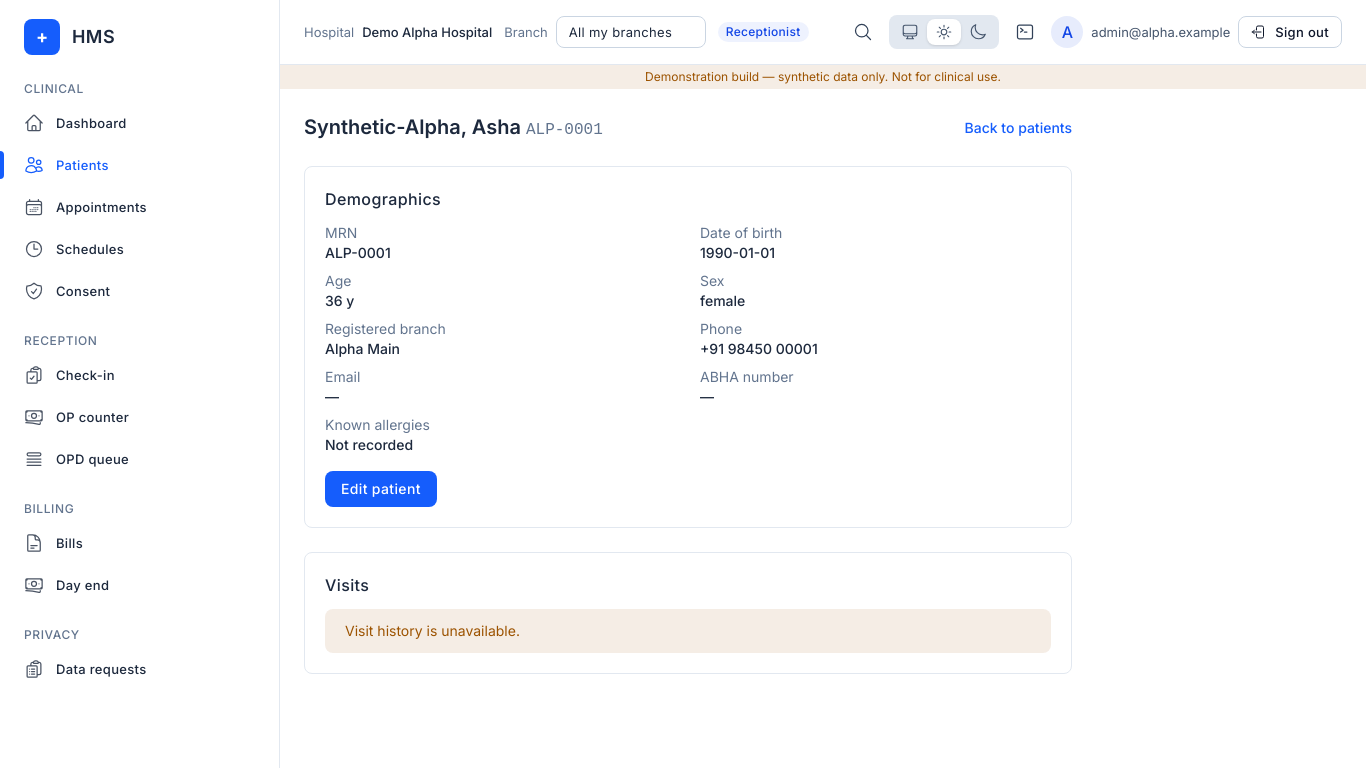
Test: PatientDetailPage › shows demographics; a receptionist can edit but not delete (#273)
Expected: the text "+91 98450 00001" is shown, x1=700 y1=340 x2=818 y2=357
Expected: the text "Alpha Main" is shown, x1=325 y1=340 x2=400 y2=357
Step 1. Click the button "Edit patient" → click(381, 489), box x1=325 y1=471 x2=437 y2=507
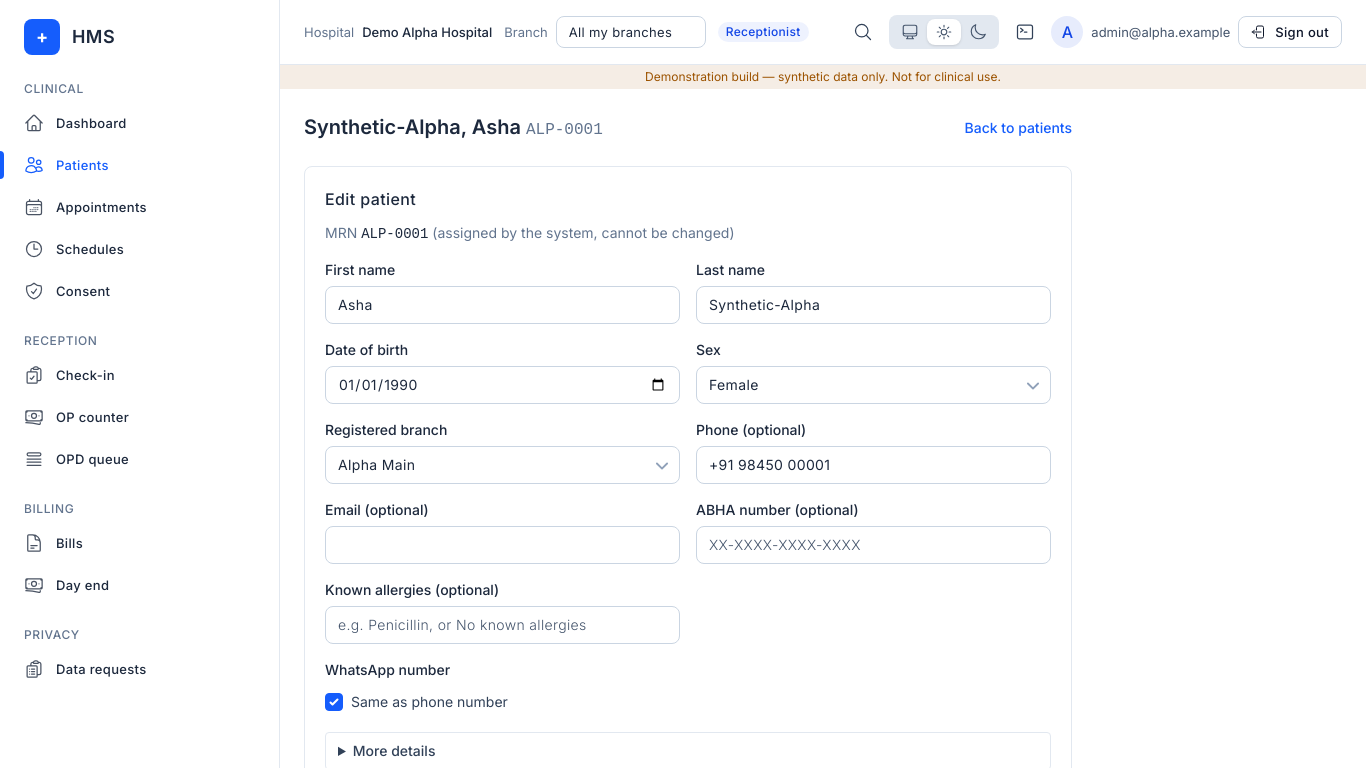
Now the element with test id "edit-mrn" shows "ALP-0001", box x1=361 y1=226 x2=428 y2=242
Step 2. Clear the field labelled "Phone (optional)" → (874, 465), box x1=696 y1=446 x2=1051 y2=484
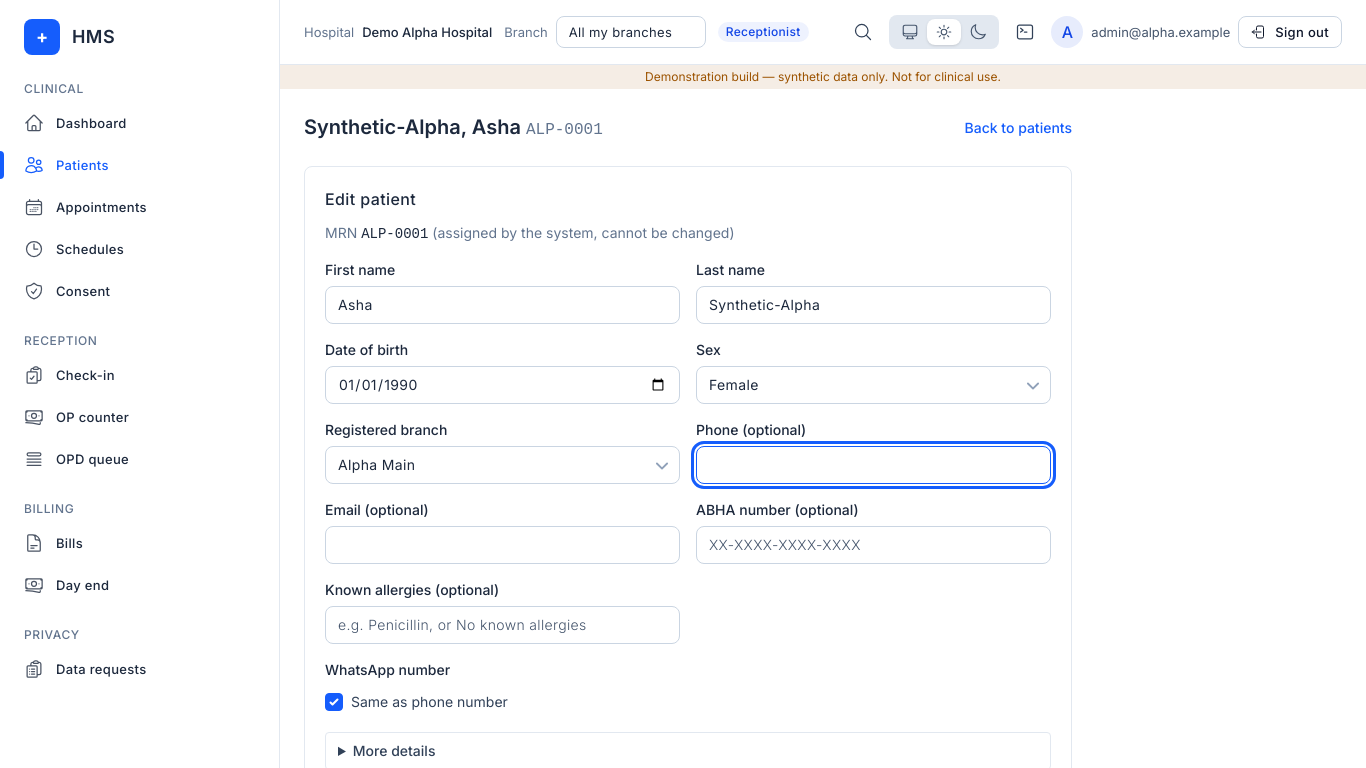
Step 3. Select "Alpha East" in the dropdown labelled "Registered branch" → (502, 465), box x1=325 y1=446 x2=680 y2=484
(page scrolled)
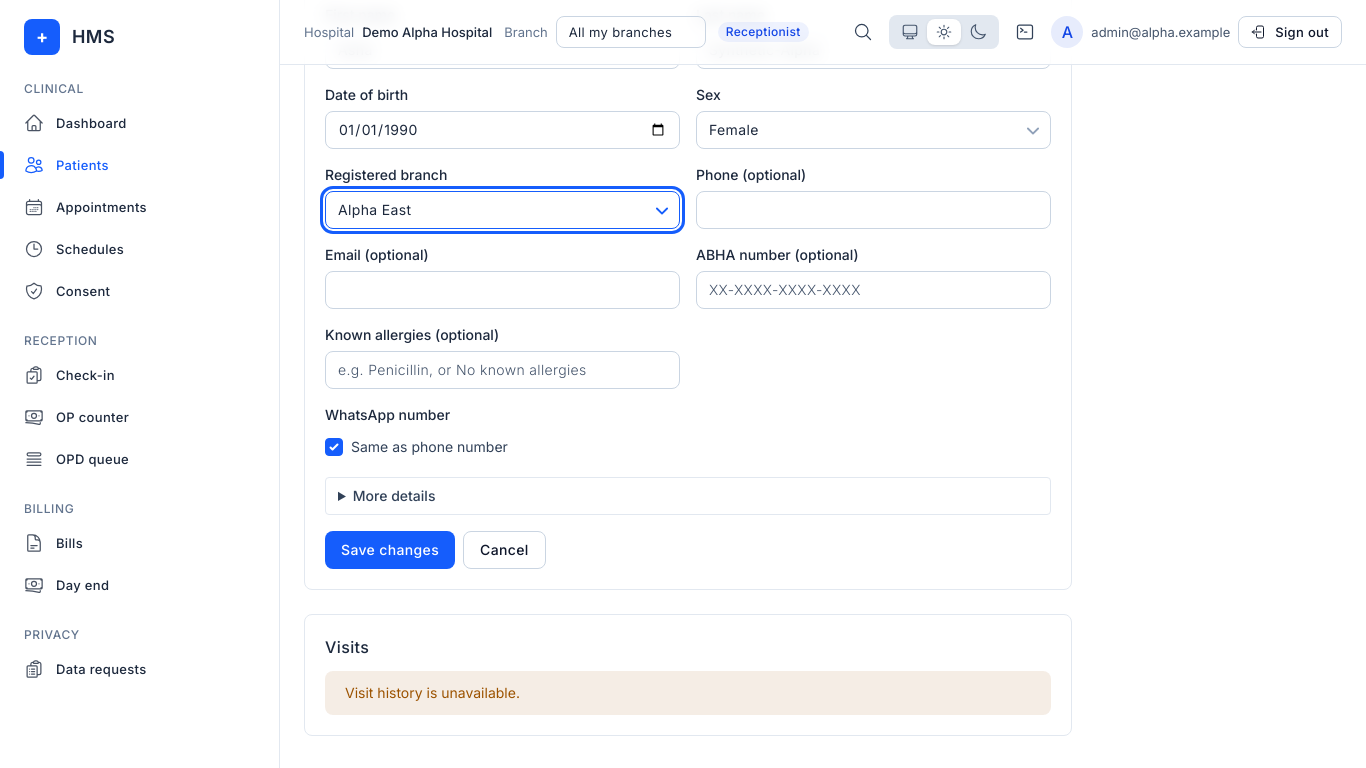
Step 4. Click the button "Save changes" → click(390, 550), box x1=325 y1=531 x2=455 y2=569
(page scrolled)
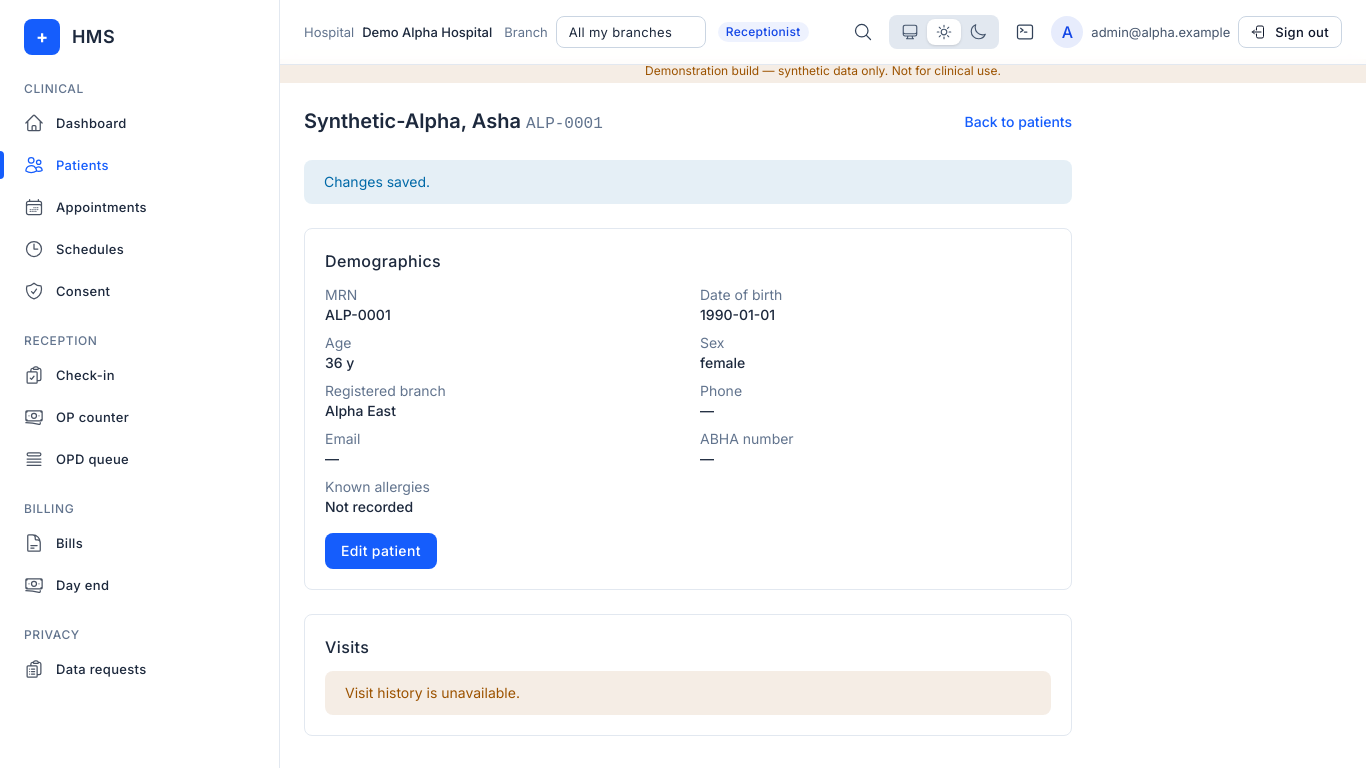
Now the text "Changes saved." is shown, box x1=304 y1=160 x2=1072 y2=204
Now the text "Alpha East" is shown, box x1=325 y1=402 x2=396 y2=419
